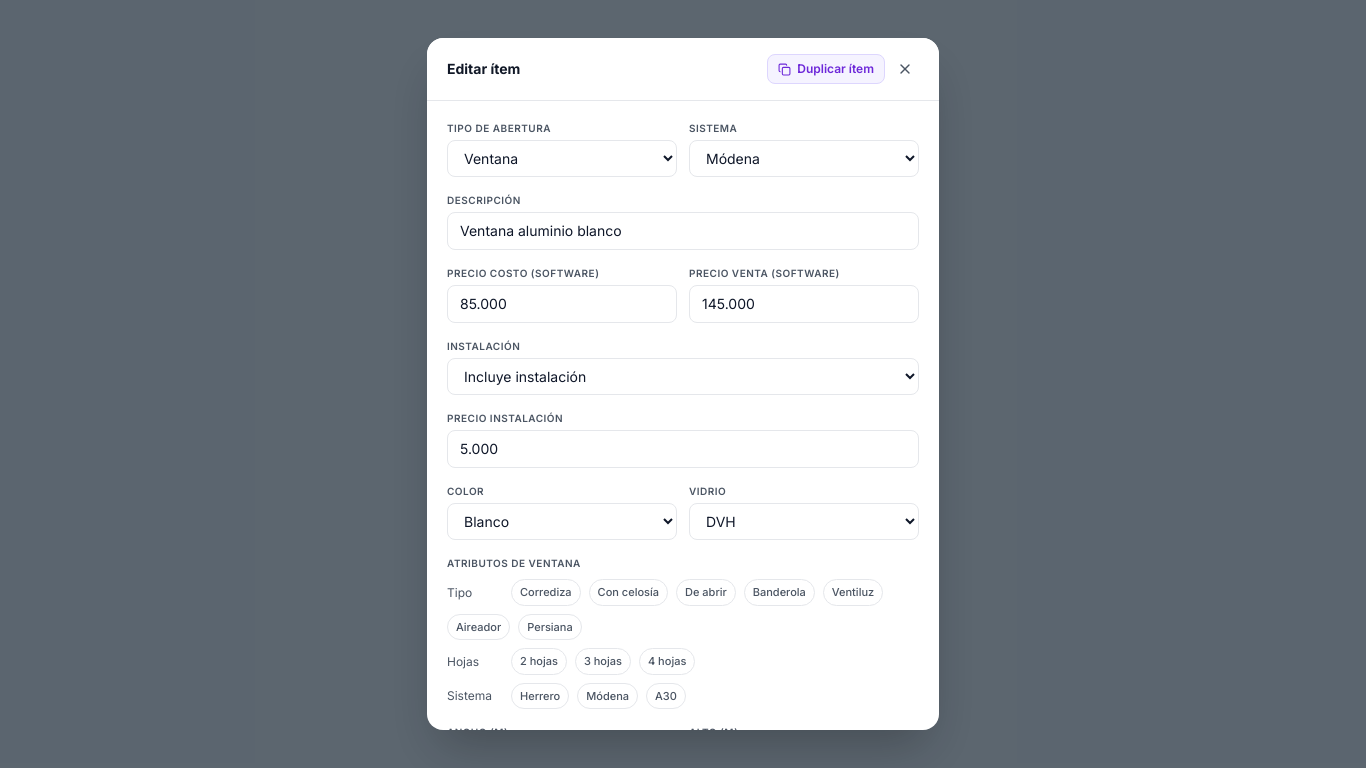
it: Duplicar ítem — EditItemModal › al duplicar, hereda tipo/sistema/descripción/color/vidrio/instalación y limpia solo medida+precio+cálculo
The width and height of the screenshot is (1366, 768).
Click the button "Duplicar ítem".
click(826, 69)  # box x1=767 y1=54 x2=885 y2=84
(page scrolled)
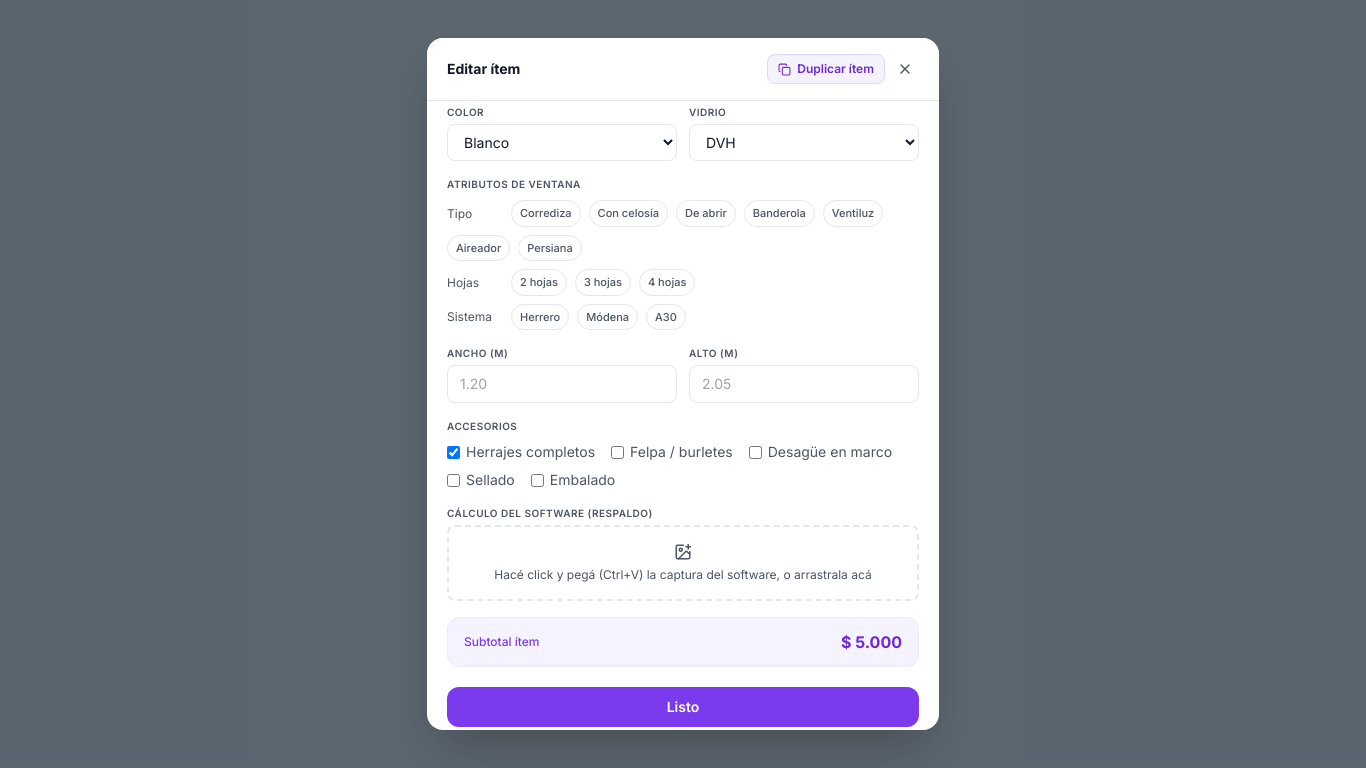
Result: the checkbox labelled "Herrajes completos" is checked at x1=447 y1=446 x2=460 y2=459
Result: the number field with placeholder "1.20" is empty at x1=447 y1=365 x2=677 y2=403
Result: the number field with placeholder "2.05" is empty at x1=689 y1=365 x2=919 y2=403
